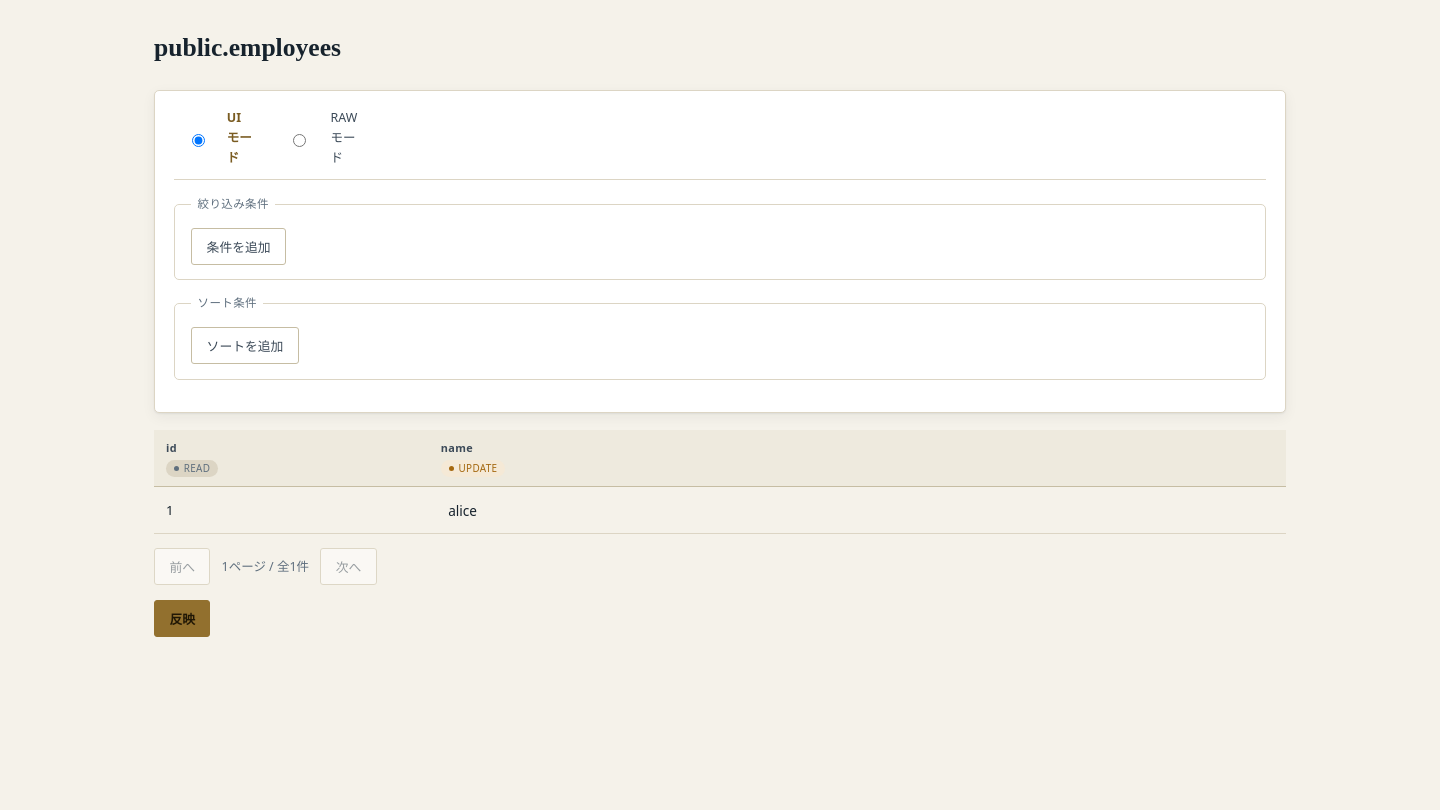
Test case: RecordListPage › edits a cell and applies the change via applyChanges, reloading on success
Replace the text in the field showing "alice" with "bob" at {"x": 857, "y": 510}, box x1=441 y1=495 x2=1274 y2=525
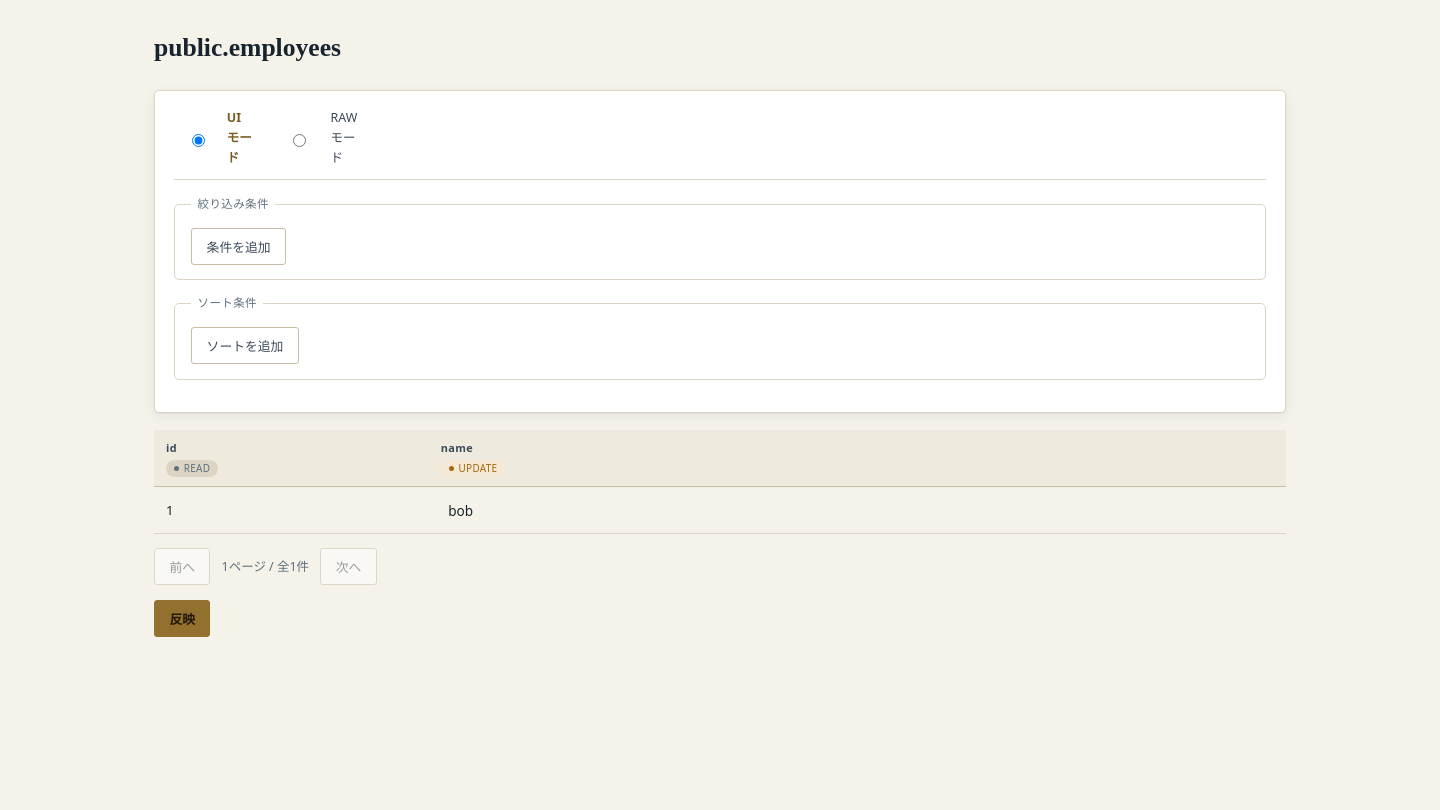
Click the button with test id "record-list-page-apply" at {"x": 182, "y": 618}, box x1=154 y1=600 x2=210 y2=637
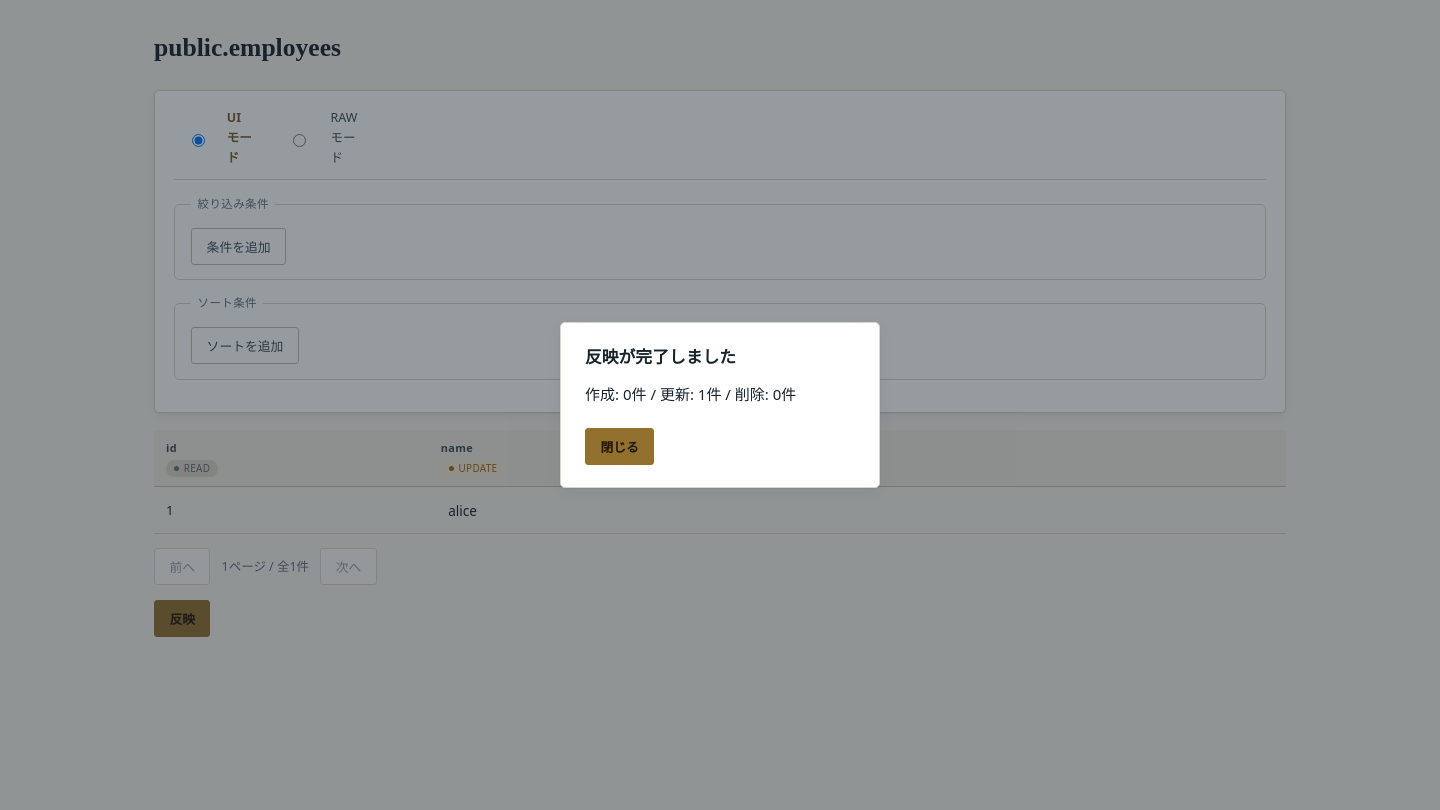
Result: the heading "反映が完了しました" is shown at x1=585 y1=348 x2=736 y2=368
